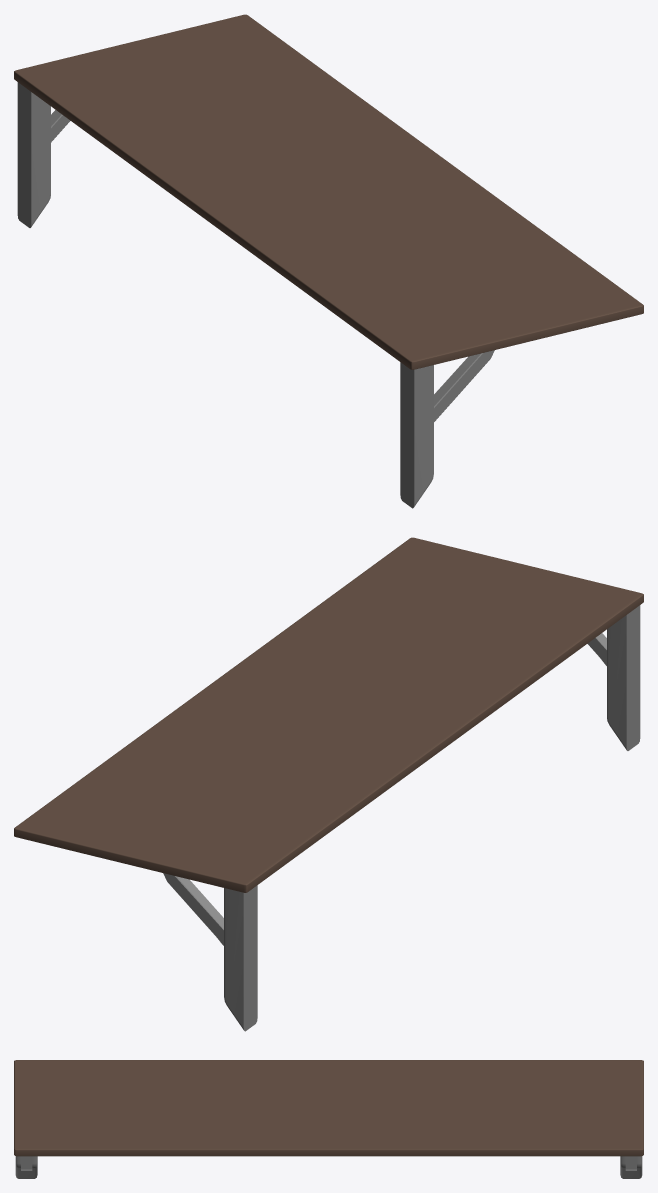
Rendered from wall shelf.fbx.
3 views of the same model, one above another, from view 1: azimuth 30°, elevation 25°; view 2: azimuth 150°, elevation 25°; view 3: azimuth 270°, elevation 25° (orthographic). The views are drawn at different scales.
Visible parts, largest first — view 1: pCube9; view 2: pCube9; view 3: pCube9.
Part boxes in pixels (bbox=[...]): pCube9: bbox=[14, 14, 643, 508]; pCube9: bbox=[14, 537, 643, 1031]; pCube9: bbox=[14, 1060, 643, 1178].
Size of the model in its own units: 2.04 by 1.24 by 6.02.
